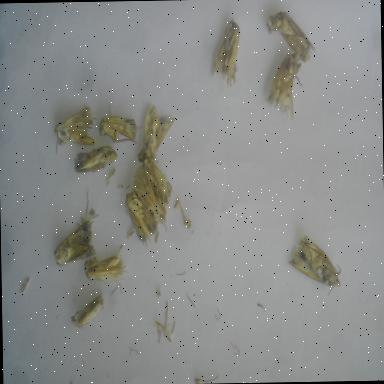abw: (286, 231, 345, 300), (135, 97, 179, 172), (262, 49, 306, 124), (267, 5, 319, 68), (206, 15, 243, 91), (129, 165, 169, 235), (51, 214, 98, 270), (48, 105, 98, 157), (140, 152, 176, 212), (80, 248, 129, 290), (68, 139, 120, 177), (96, 108, 142, 150), (68, 286, 108, 332)
